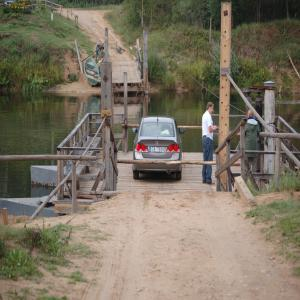Vehicle-registration-plate: (150, 148, 166, 154)
